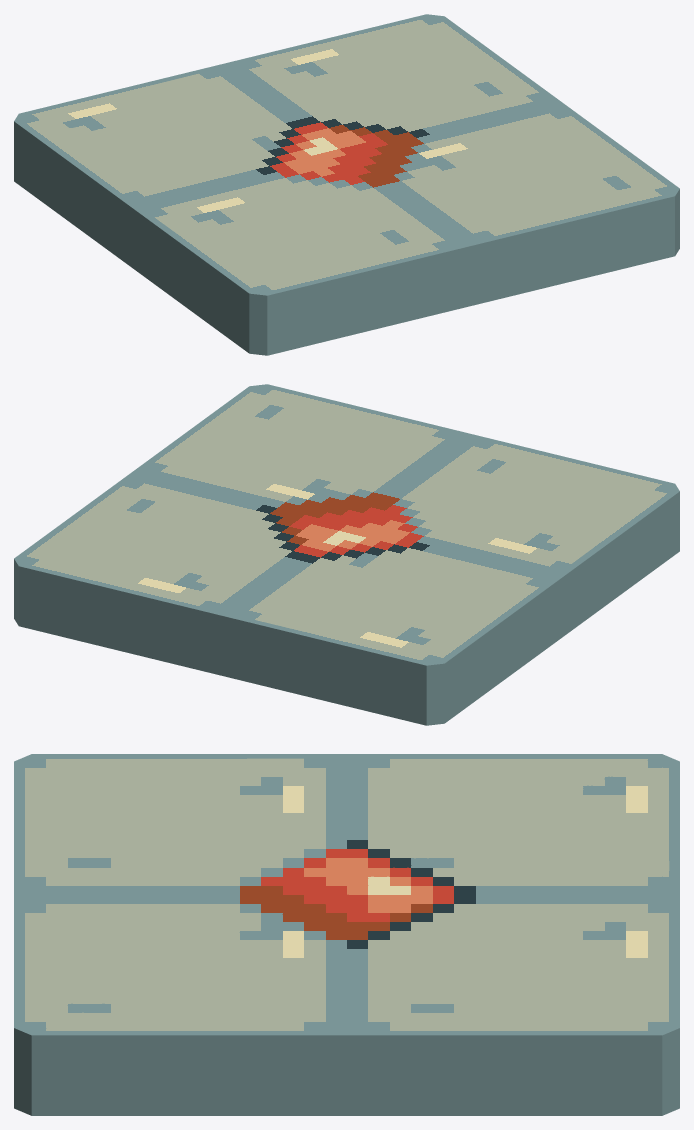
Rendered from moving_platform.glb.
3 views of the same model, one above another, from view 1: azimuth 30°, elevation 25°; view 2: azimuth 150°, elevation 25°; view 3: azimuth 270°, elevation 25° (orthographic). The views are drawn at different scales.
Visible parts, largest first — view 1: Stone slab; view 2: Stone slab; view 3: Stone slab.
Boxes of the visible parts, x1,y1,x2,y2 form: Stone slab: (14,14,679,355); Stone slab: (14,384,679,725); Stone slab: (14,754,679,1115).
Size of the model in its own units: 30 by 4 by 30.
1 material, 1 textured.
